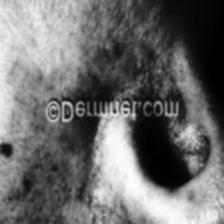Non-Cancerous Skin Condition: (58, 123, 140, 224), (124, 52, 176, 100), (172, 116, 211, 156)
